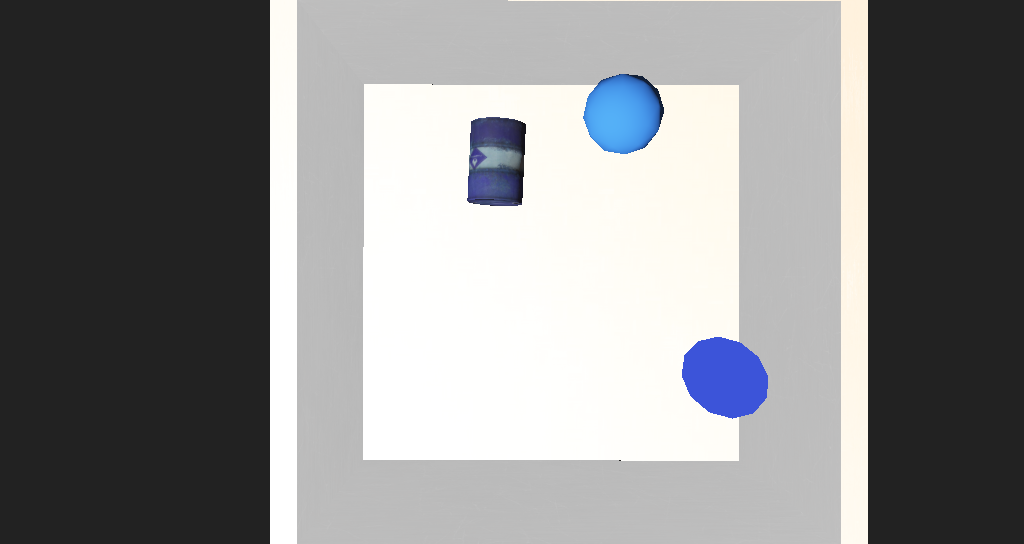cone: (431, 181, 485, 229)
cylinder: (593, 303, 674, 375)
sphere: (525, 160, 593, 203)
